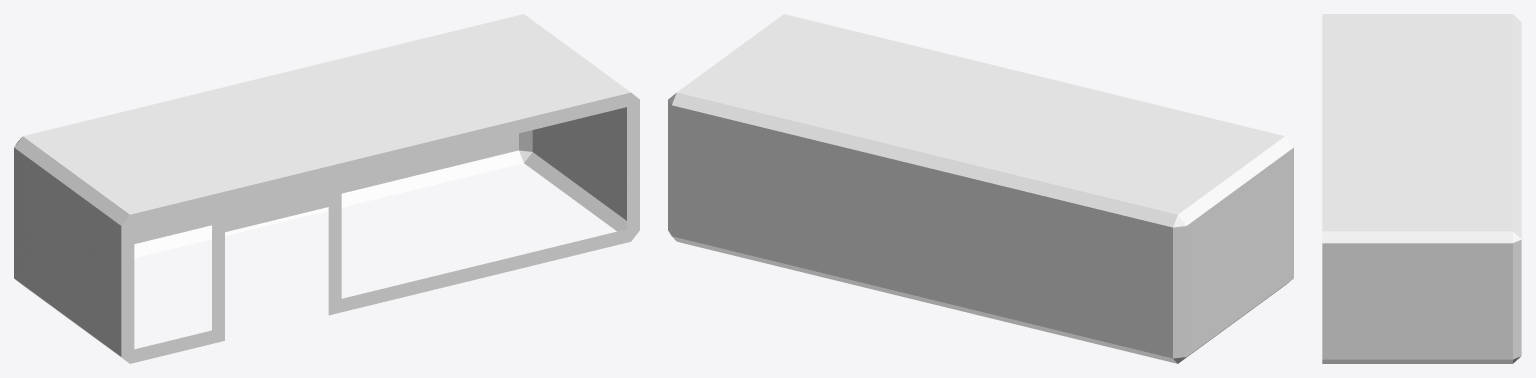
The model's file is Medical_Walls.fbx.
The picture shows the model from 3 angles, left to right: view 1: azimuth 30°, elevation 25°; view 2: azimuth 150°, elevation 25°; view 3: azimuth 270°, elevation 25°; orthographic projection. The views are drawn at different scales.
Parts seen in each view (by area): view 1: Medical_Walls; view 2: Medical_Walls; view 3: Medical_Walls.
Boxes of the visible parts, box(x1,y1,x2,y2) form: Medical_Walls: box(14, 14, 639, 363); Medical_Walls: box(668, 14, 1293, 363); Medical_Walls: box(1322, 14, 1521, 363).
Size of the model in its own units: 4000 by 1100 by 1500.
